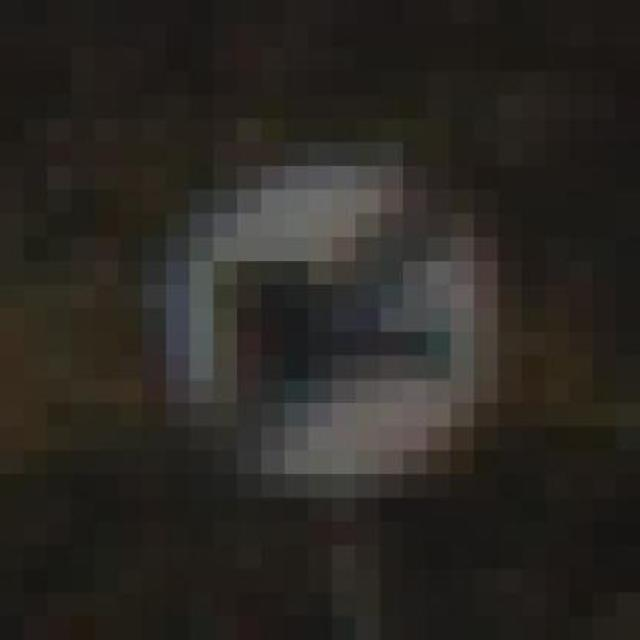Overtaking by trucks is prohibited: (142, 119, 593, 522)
